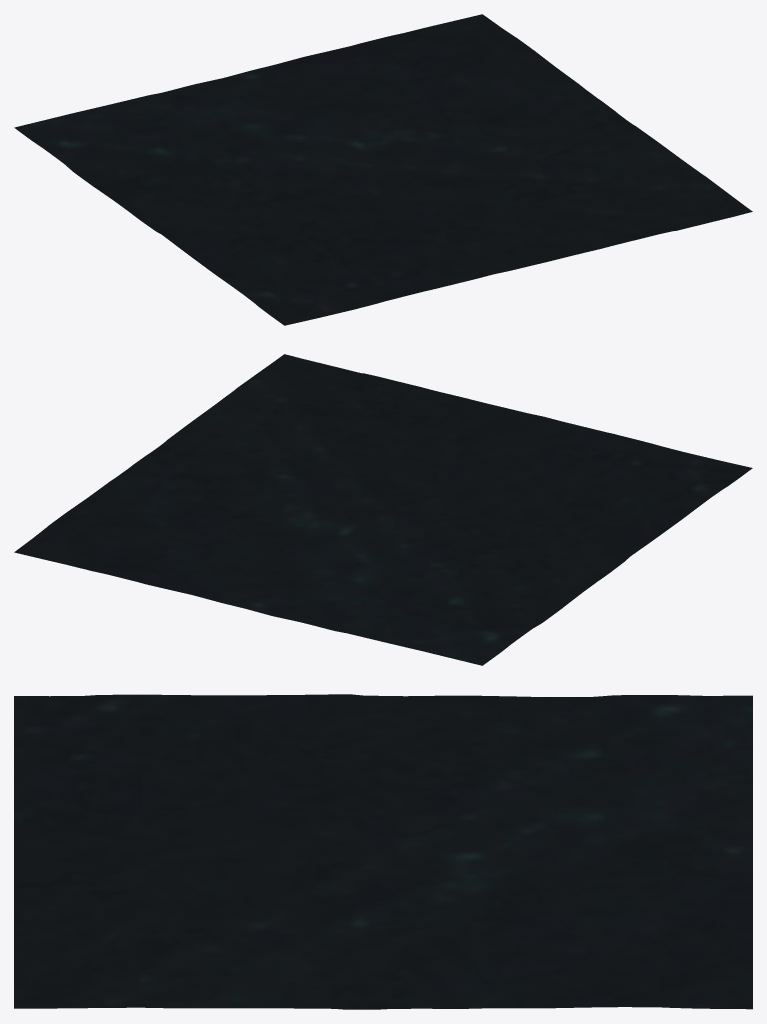
The picture shows the model from 3 angles, top to bottom: view 1: azimuth 30°, elevation 25°; view 2: azimuth 150°, elevation 25°; view 3: azimuth 270°, elevation 25°; orthographic projection. The views are drawn at different scales.
Size of the model in its own units: 52.22 by 0.3117 by 52.22.
3 materials, 3 textured.
